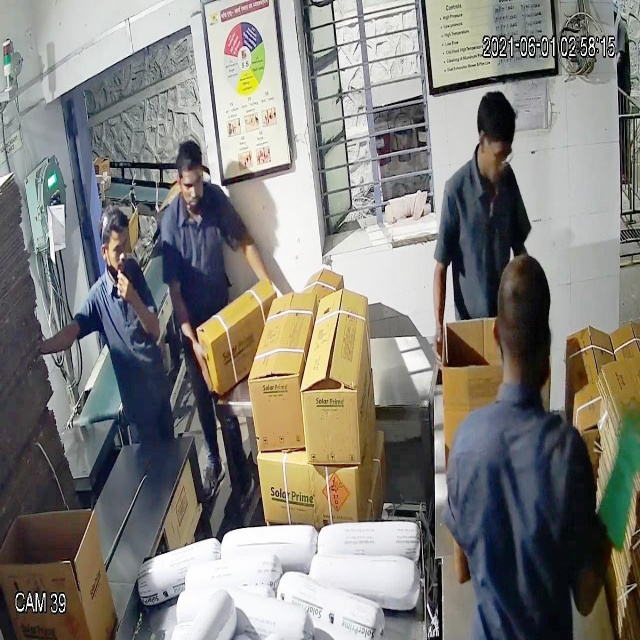Sin_gafas: (92, 230, 132, 264)
